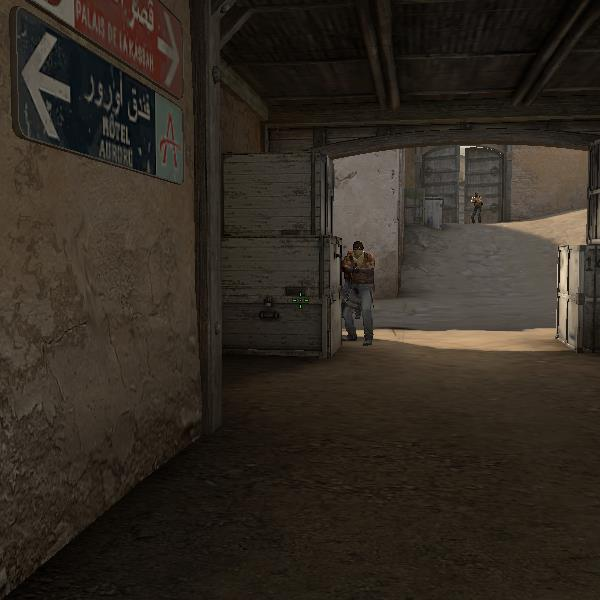t_body: (341, 247, 358, 290)
t_head: (343, 247, 358, 262)
